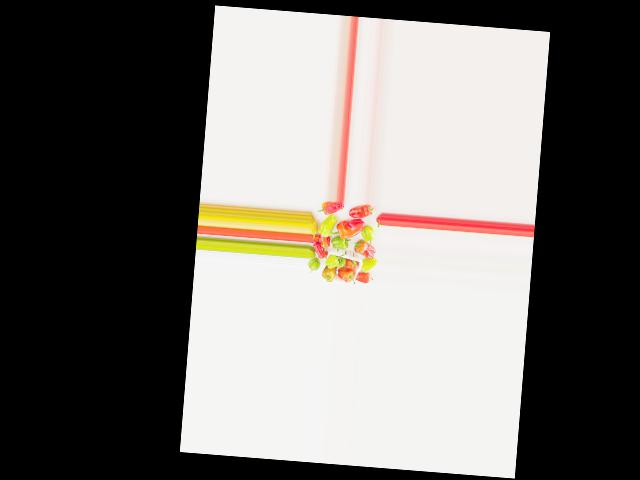bell_pepper: (316, 199, 341, 217)
